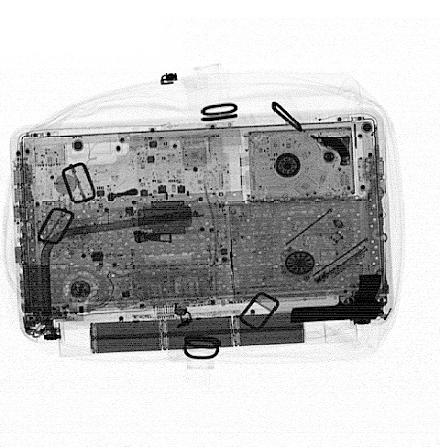Gun: (289, 273, 387, 326)
